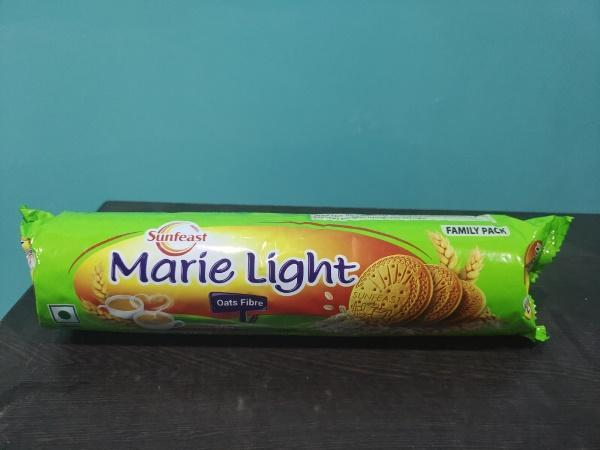MarieLight: (15, 180, 585, 365)
